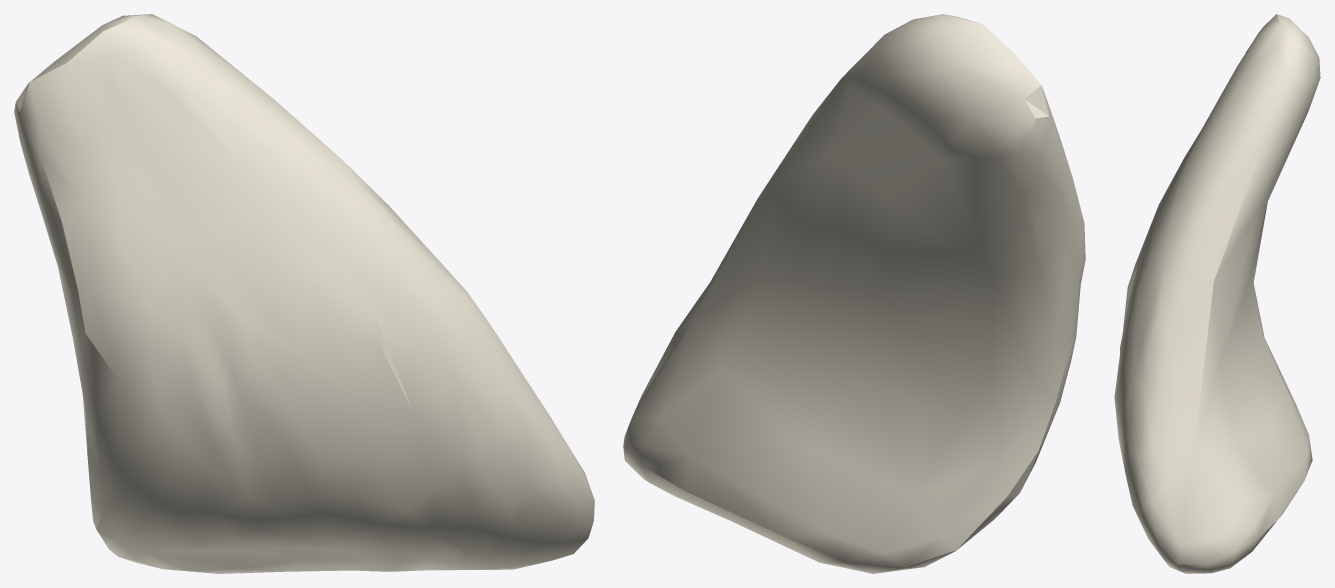
The model's file is fma73185_mm1446m.glb.
3 views of the same model, side by side, from view 1: azimuth 30°, elevation 25°; view 2: azimuth 150°, elevation 25°; view 3: azimuth 270°, elevation 25° (orthographic). The views are drawn at different scales.
Visible parts, largest first — view 1: FMA73185_MM1446M; view 2: FMA73185_MM1446M; view 3: FMA73185_MM1446M.
Part boxes in pixels (x1=…): FMA73185_MM1446M: x1=14, y1=14, x2=594, y2=573; FMA73185_MM1446M: x1=623, y1=14, x2=1085, y2=573; FMA73185_MM1446M: x1=1114, y1=14, x2=1320, y2=573.
Size of the model in its own units: 0.00799 by 0.00912 by 0.00397.
